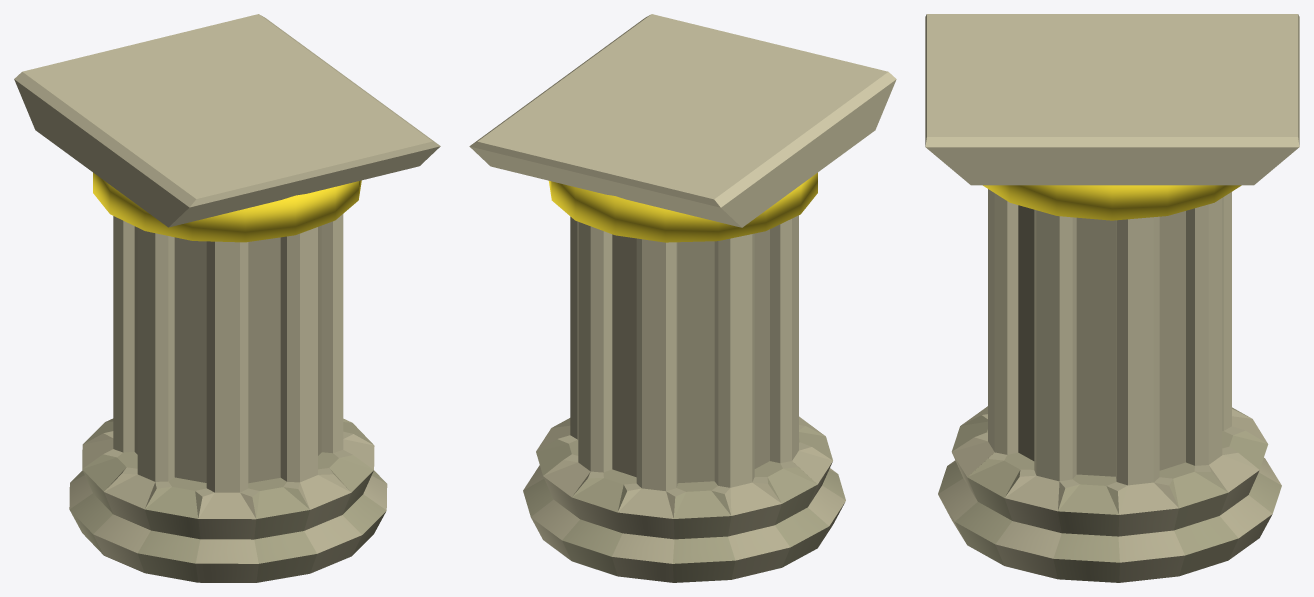
The model's file is autel bien.fbx.
3 renders of one model, left to right at view 1: azimuth 30°, elevation 25°; view 2: azimuth 150°, elevation 25°; view 3: azimuth 270°, elevation 25°, orthographic. The views are drawn at different scales.
Parts seen in each view (by area): view 1: autel bien; view 2: autel bien; view 3: autel bien.
Part boxes in pixels (x1,y1,x2,y2): autel bien: (14,14,440,582); autel bien: (469,14,896,582); autel bien: (925,14,1299,582).
Bounding box in the file's own units: 158 × 223 × 171.
